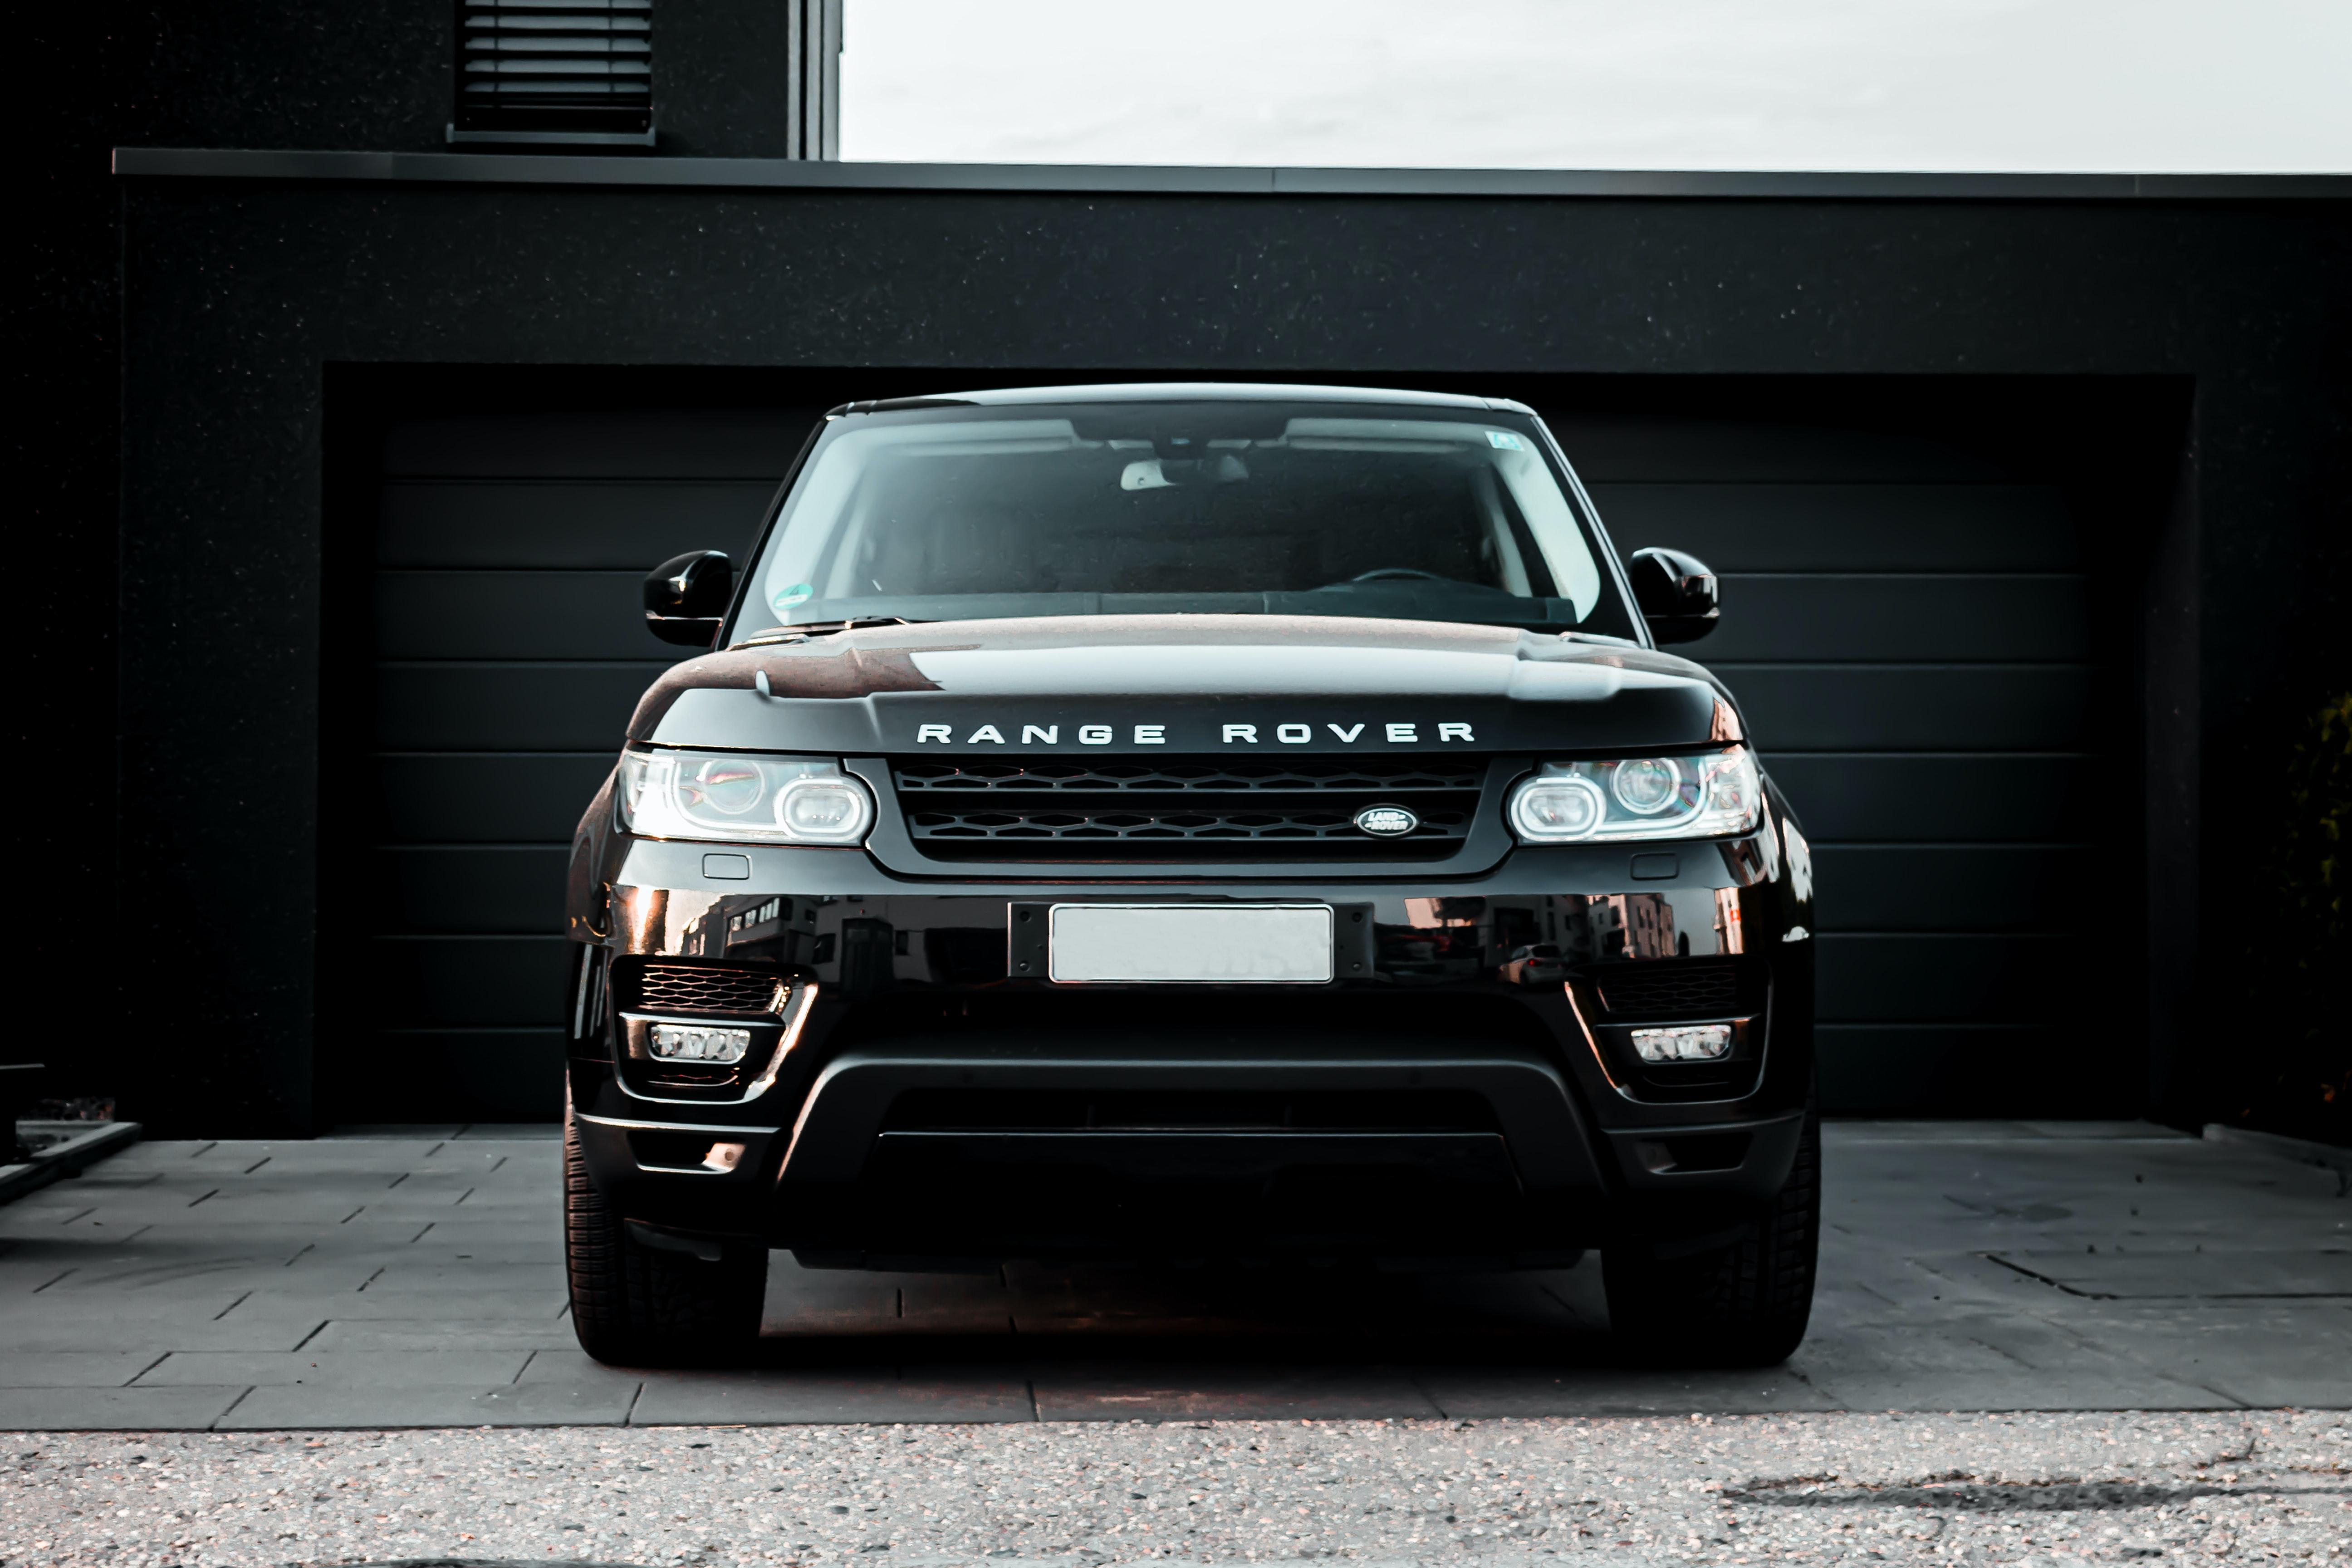range rover: (877, 677, 1515, 803)
